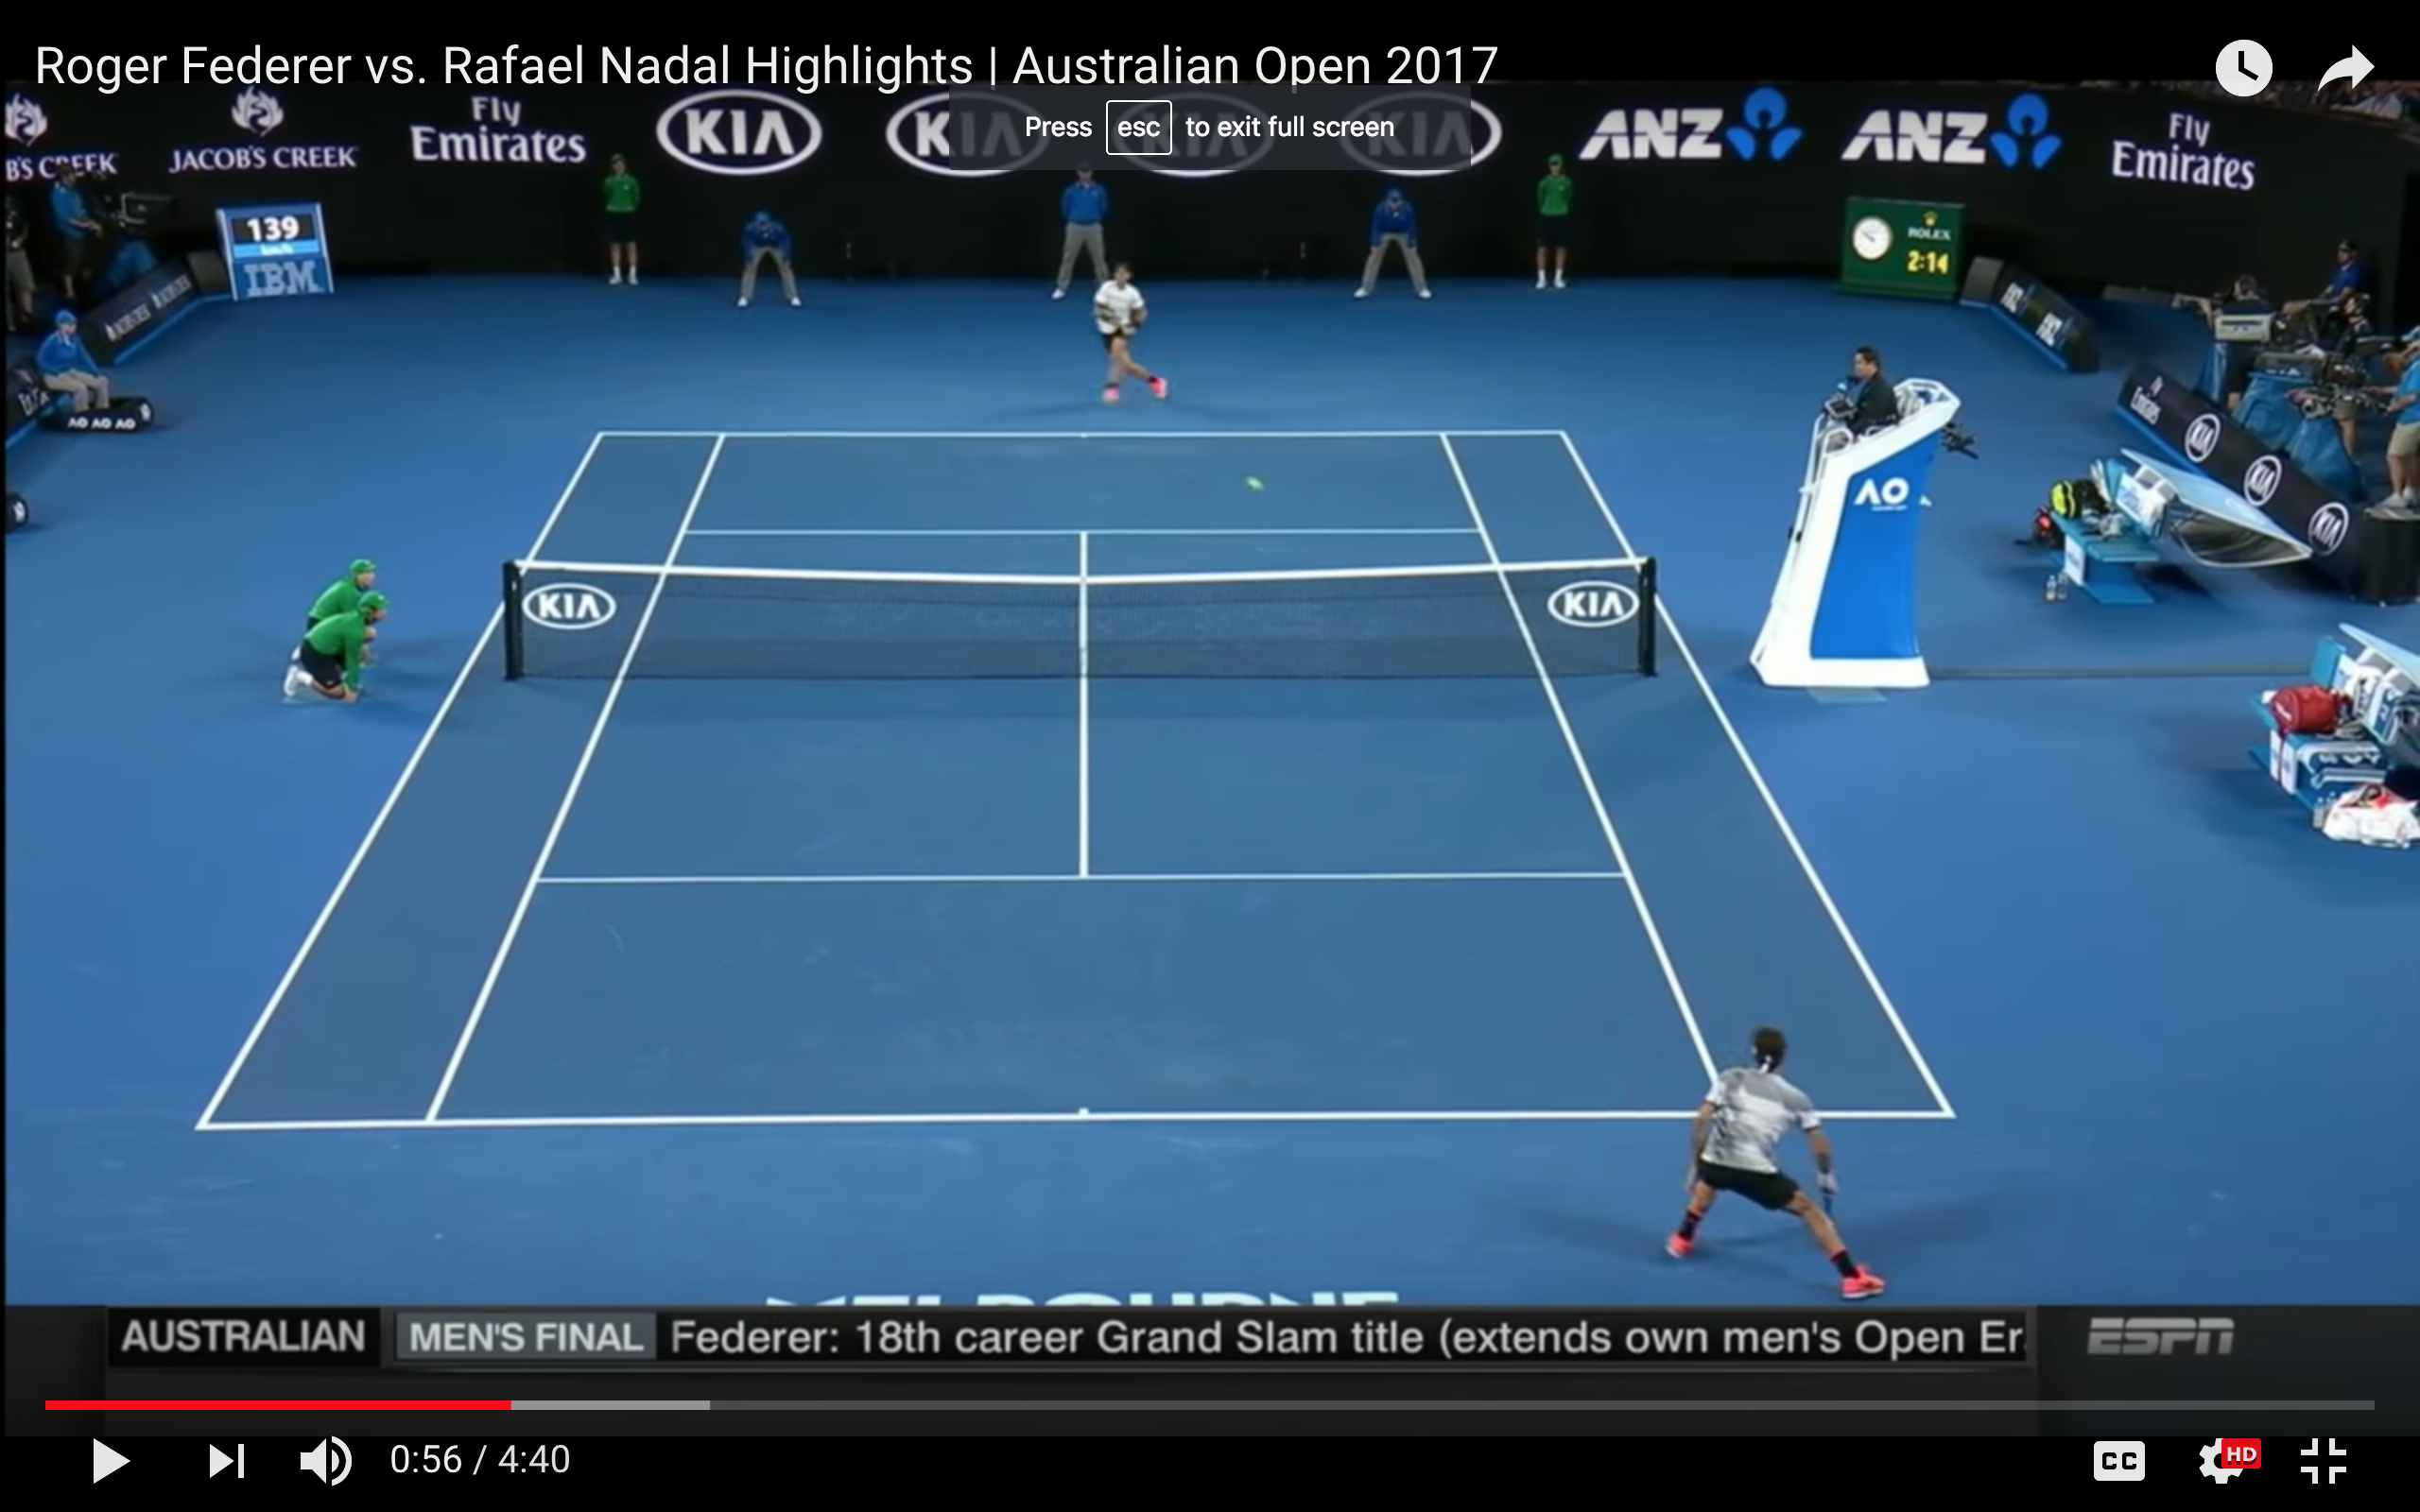tennis ball: (1236, 467, 1273, 496)
tennis player: (1664, 1022, 1890, 1309), (1077, 261, 1178, 413)
